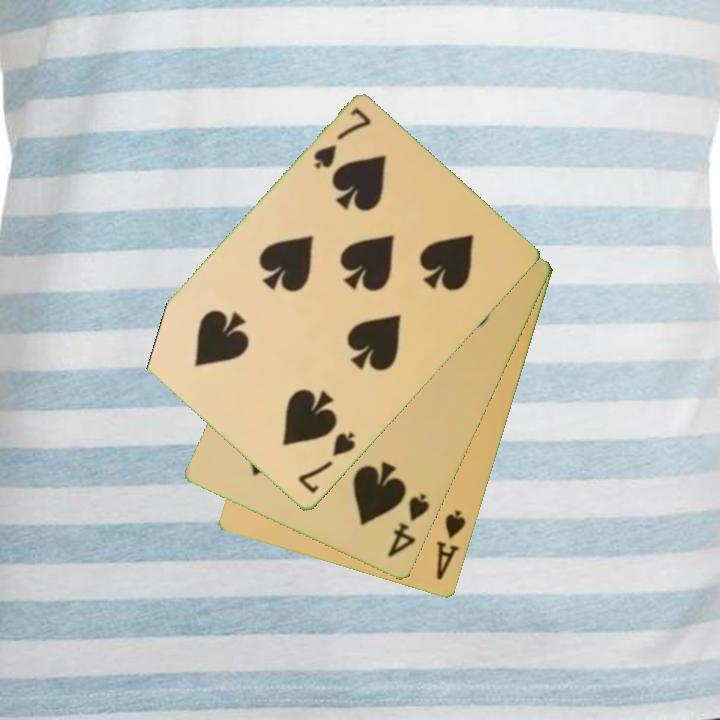4s: (384, 490, 433, 561)
7s: (294, 429, 359, 497), (310, 104, 374, 173)
As: (433, 507, 469, 584)
